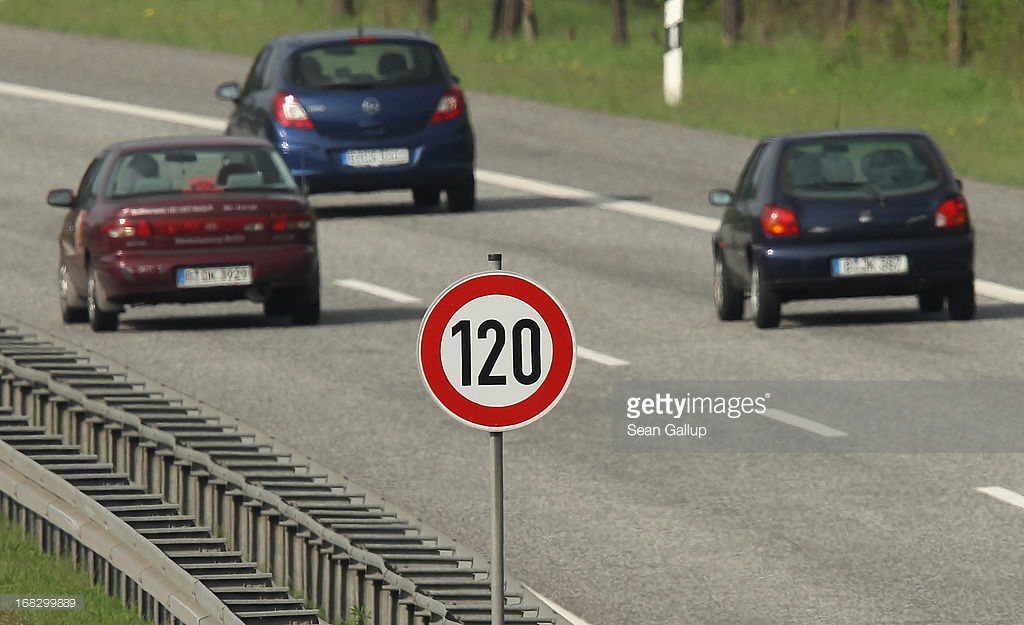Speed_limit_120km: (415, 272, 578, 430)
car: (695, 130, 986, 335), (42, 137, 338, 330)
